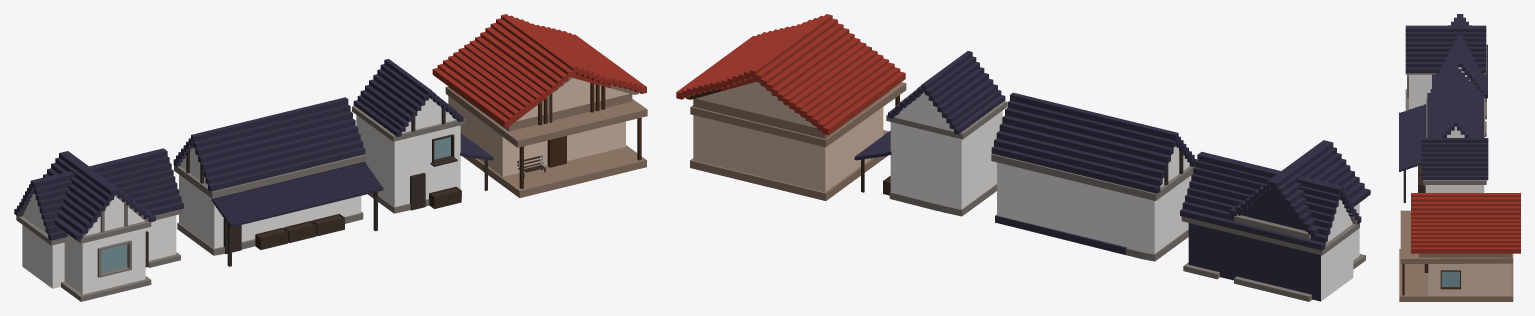
The model's file is huisjes.fbx.
3 renders of one model, left to right at view 1: azimuth 30°, elevation 25°; view 2: azimuth 150°, elevation 25°; view 3: azimuth 270°, elevation 25°, orthographic. The views are drawn at different scales.
Parts seen in each view (by area): view 1: house_4, house_2, house_1, house_3; view 2: house_4, house_2, house_1, house_3; view 3: house_4, house_1, house_2, house_3.
Boxes of the visible parts, box(x1,y1,x2,y2) form: house_4: box(432, 14, 647, 197); house_2: box(173, 97, 383, 266); house_1: box(14, 148, 183, 301); house_3: box(352, 59, 493, 213); house_4: box(676, 14, 906, 200); house_2: box(991, 92, 1196, 261); house_1: box(1180, 140, 1370, 301); house_3: box(854, 51, 1007, 216); house_4: box(1399, 193, 1520, 301); house_1: box(1405, 14, 1487, 136); house_2: box(1399, 64, 1484, 202); house_3: box(1421, 138, 1488, 192).
Bounding box in the file's own units: 216 × 41.11 × 51.21.
